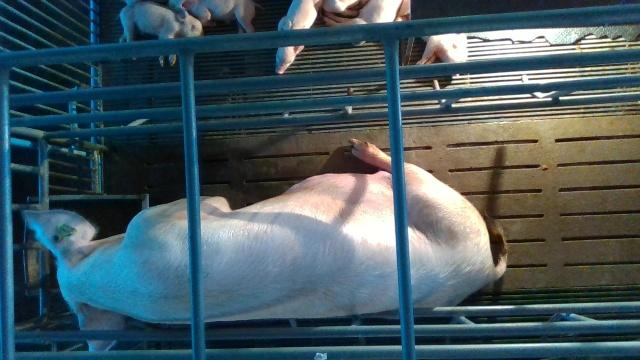piglet: (119, 2, 201, 67), (323, 0, 404, 46), (276, 0, 322, 73), (169, 0, 255, 34), (416, 33, 467, 65)
sow-sit: (23, 137, 506, 351)
